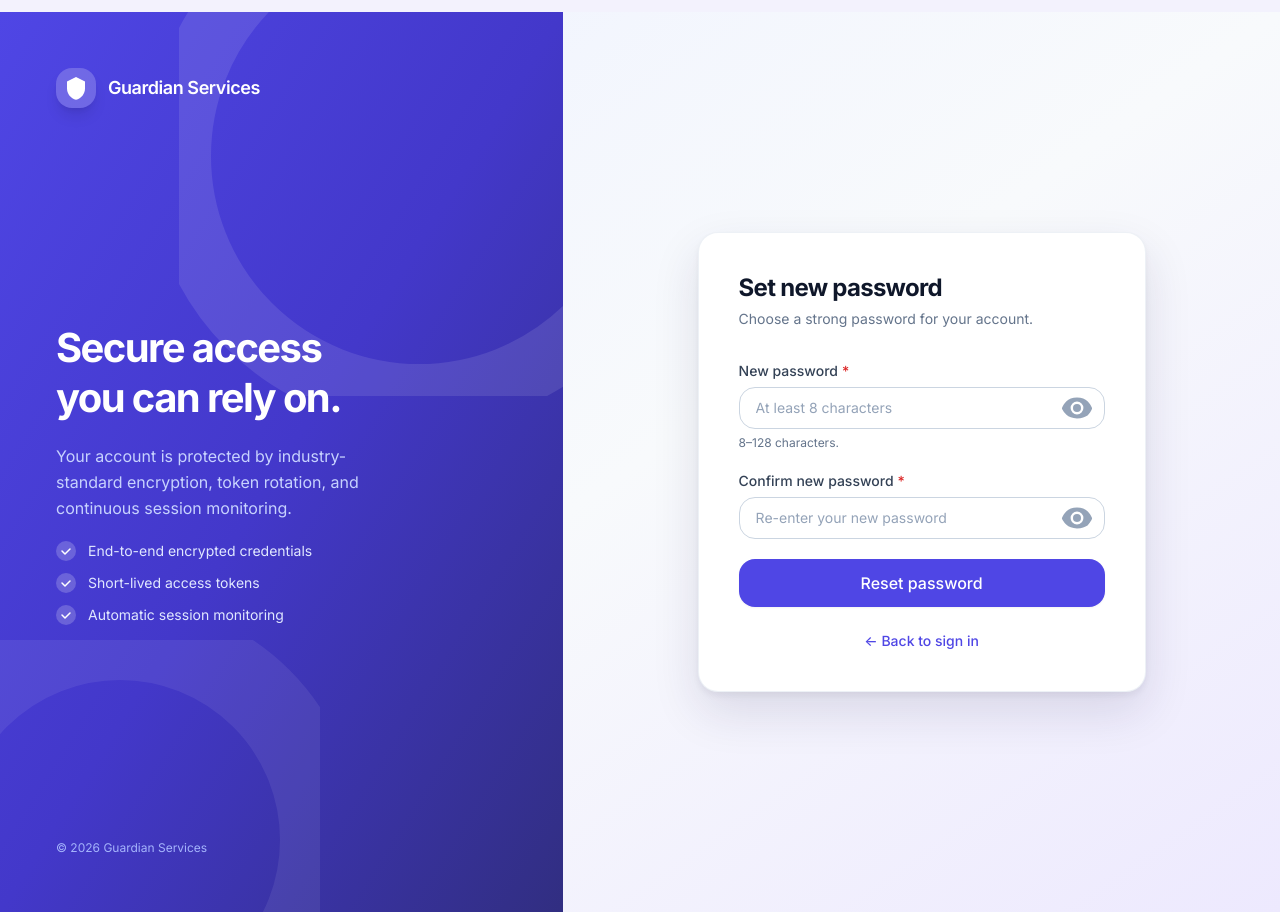
Scenario: ResetPasswordPage — valid token › shows validation error when password is too short
The image size is (1280, 912).
Type "short" into the password field labelled "New password*" at coordinates (922, 408), box x1=739 y1=387 x2=1105 y2=429
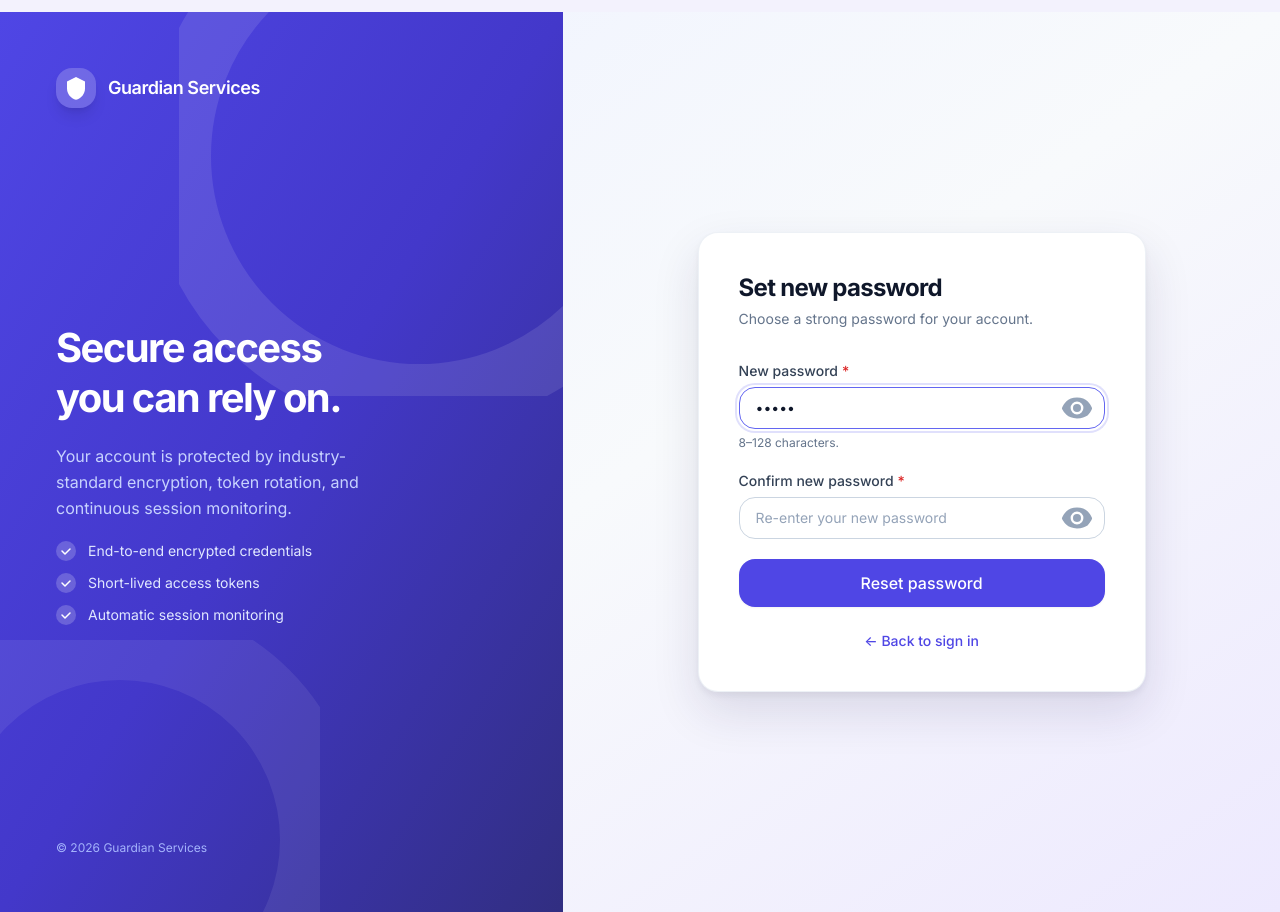
Type "short" into the password field labelled "Confirm new password*" at coordinates (922, 518), box x1=739 y1=497 x2=1105 y2=539
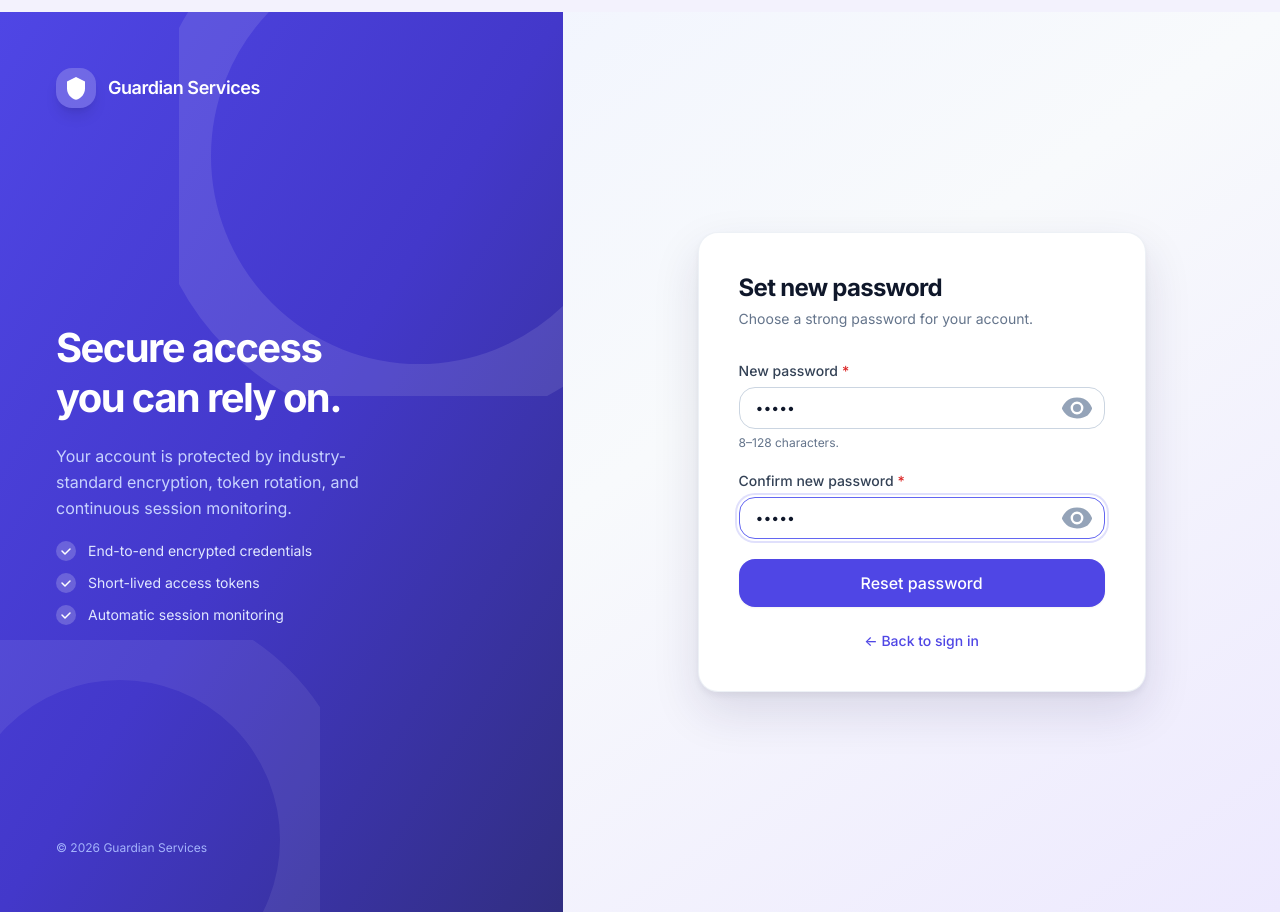
Click the button "Reset password" at coordinates (922, 583), box x1=739 y1=559 x2=1105 y2=607
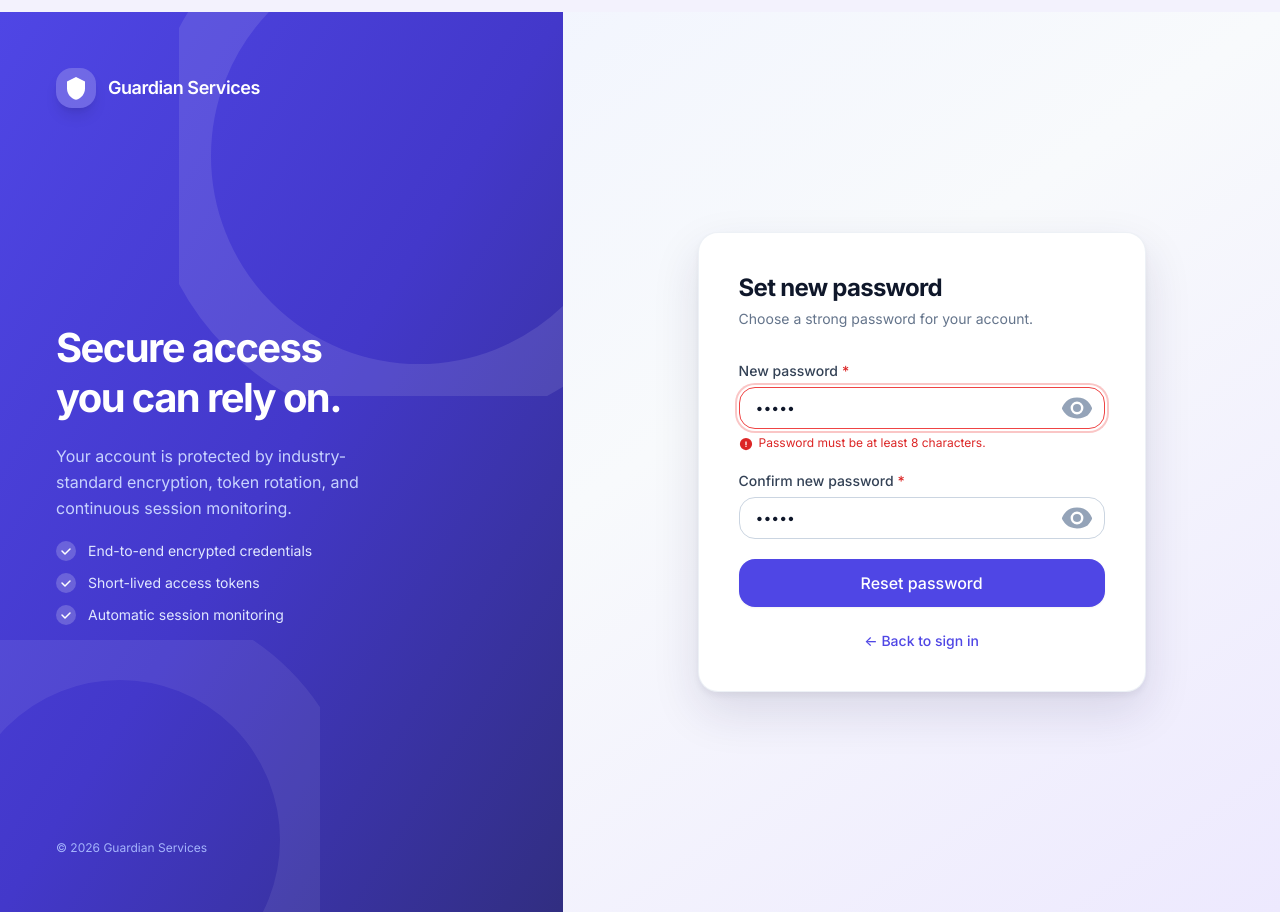
expect the text "Password must be at least 8 characters." is shown: met, box x1=739 y1=435 x2=986 y2=451
